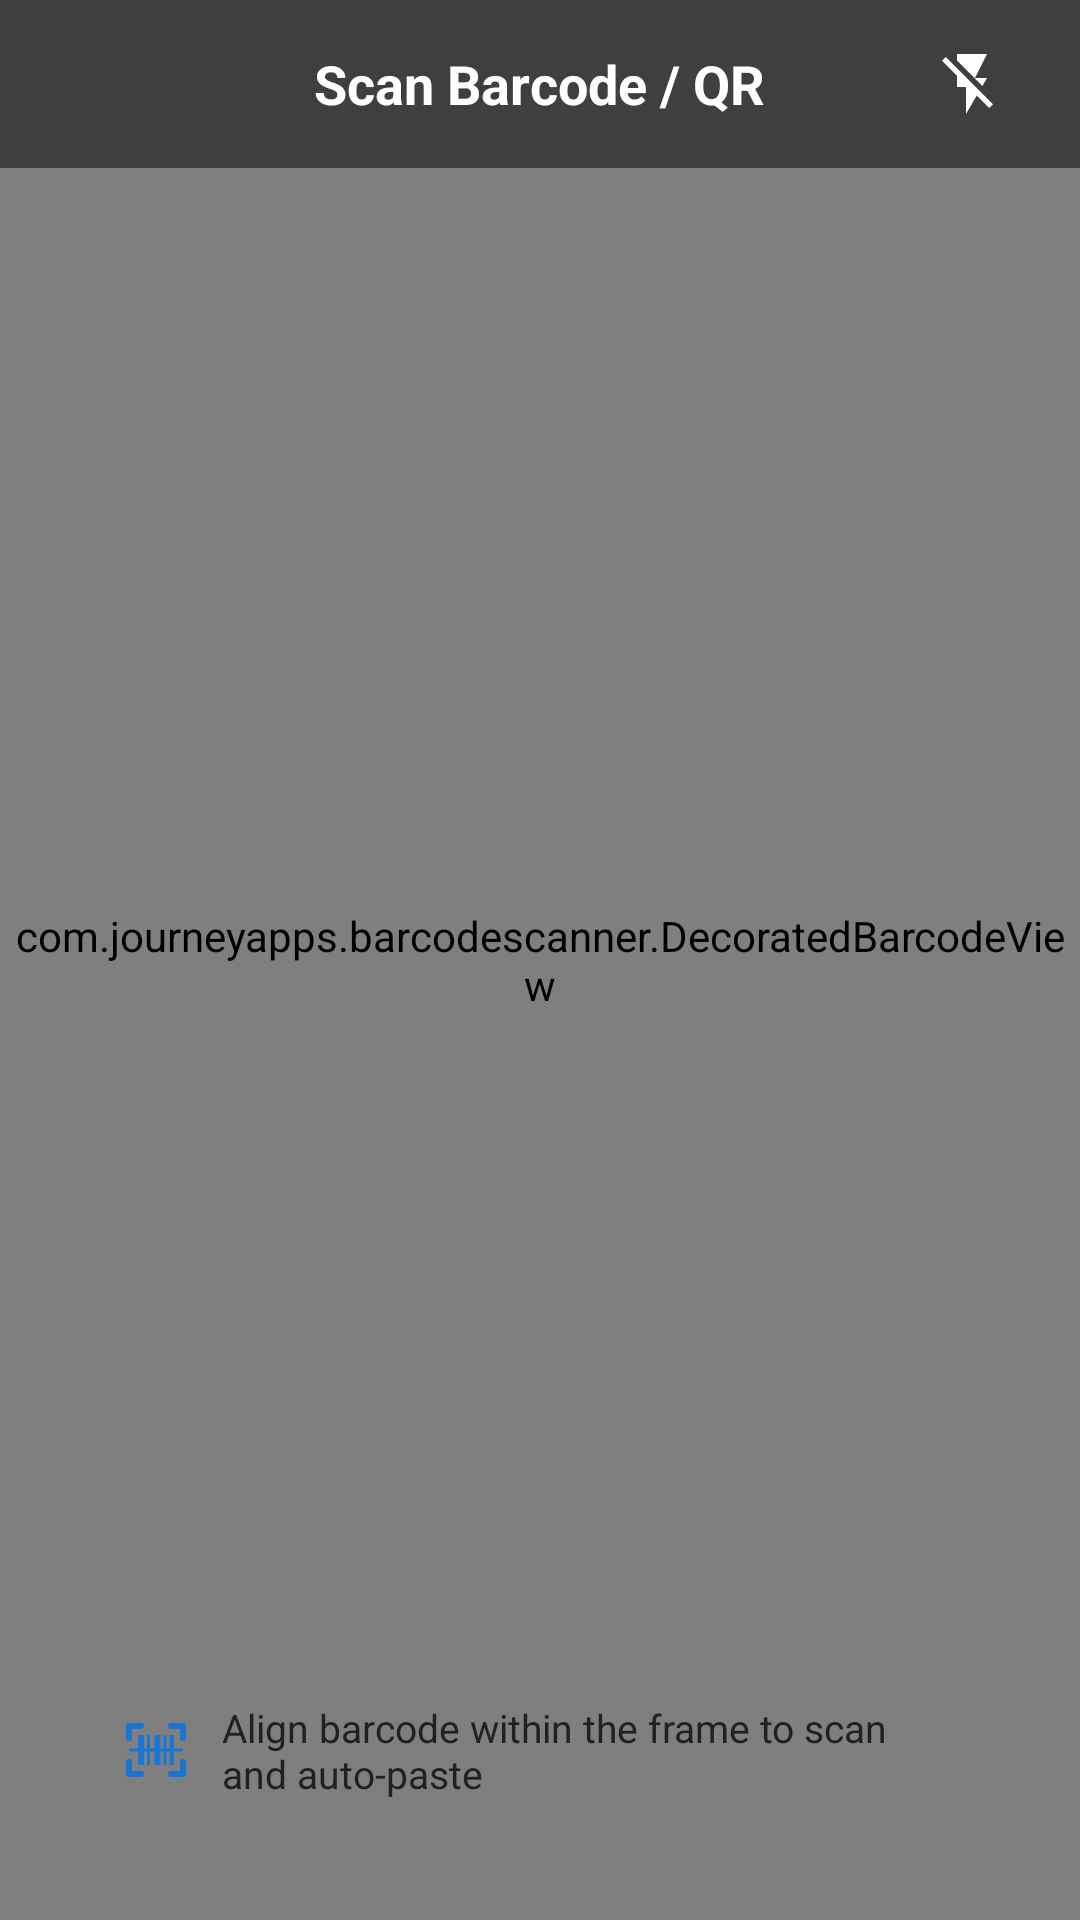

Where icons sit on this 1080w x 1920h app screen, as [x1, y1, x2, y2]:
barcode floating: [126, 1723, 186, 1777]
Toggle Torch: [942, 54, 993, 114]
